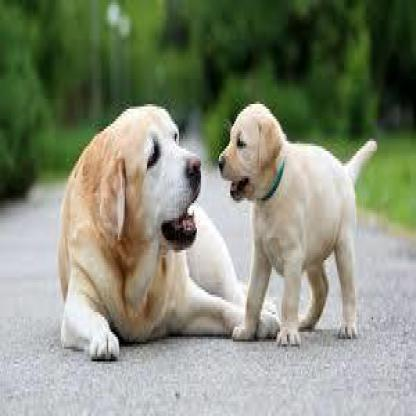dog: (52, 99, 278, 357), (218, 99, 376, 347)
